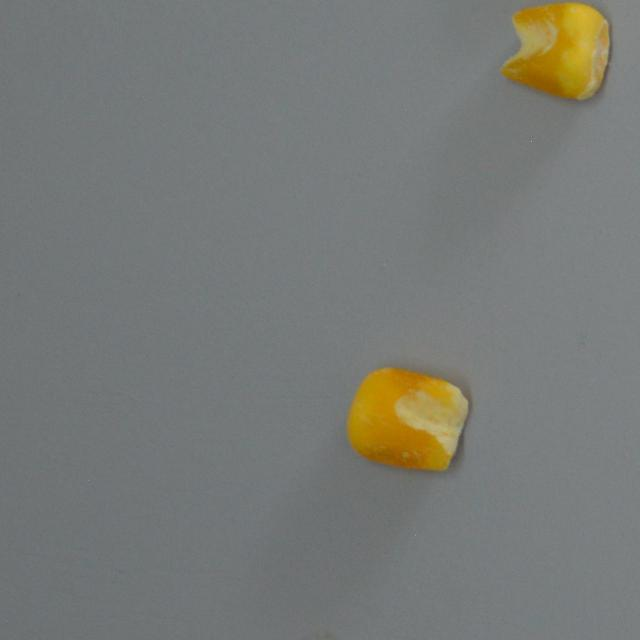pelicula: (344, 365, 470, 471), (500, 2, 610, 100)
